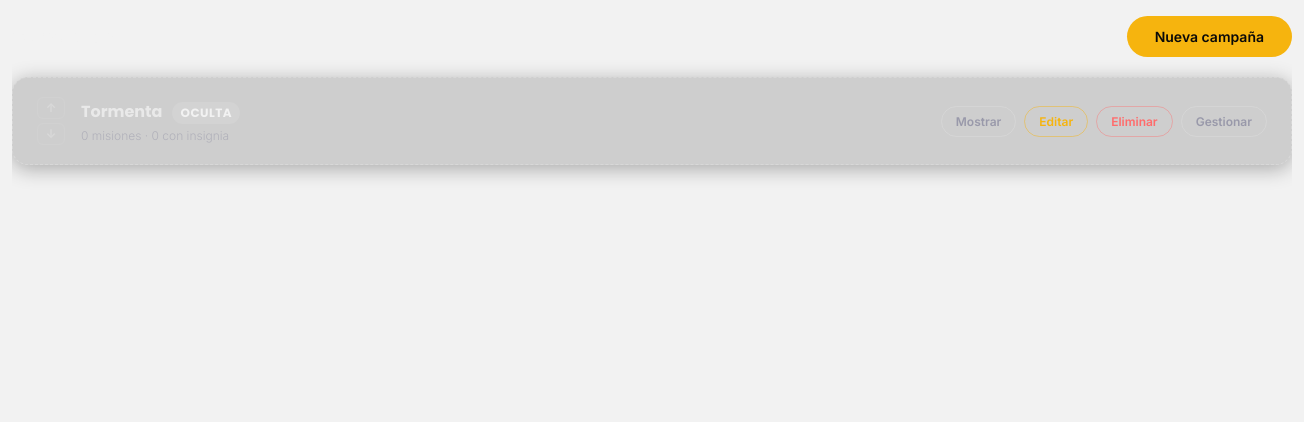
hiding a campaign › keeps a hidden campaign editable, reorderable and manageable
Check: the heading "Tormenta Oculta" is shown, box [81,100,240,124]
Check: the button "Editar" is enabled, box [1024,106,1088,136]
Click the button "Gestionar": (1224, 121) [1181,106,1267,136]
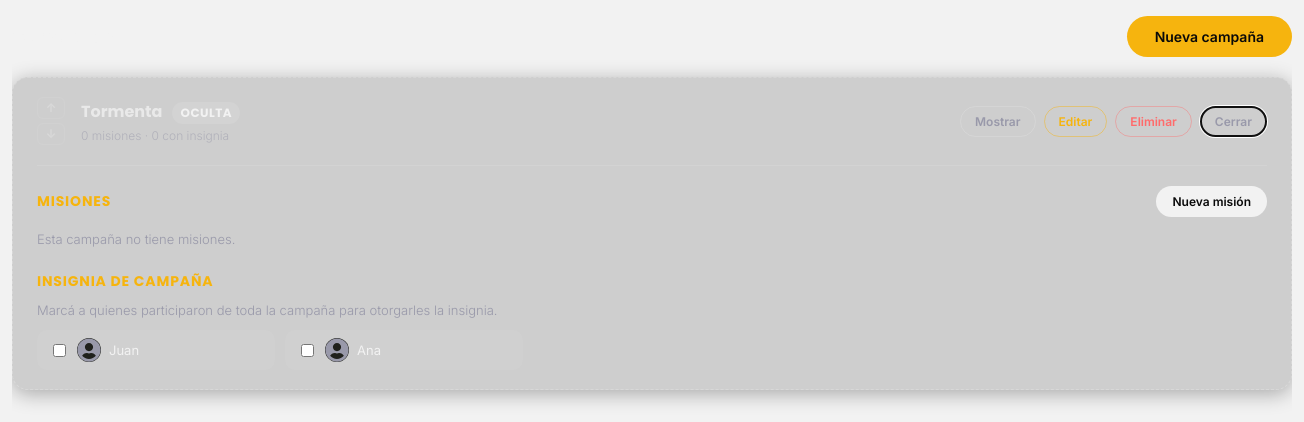
Check: the button "Nueva misión" is shown, box [1156,186,1267,217]
